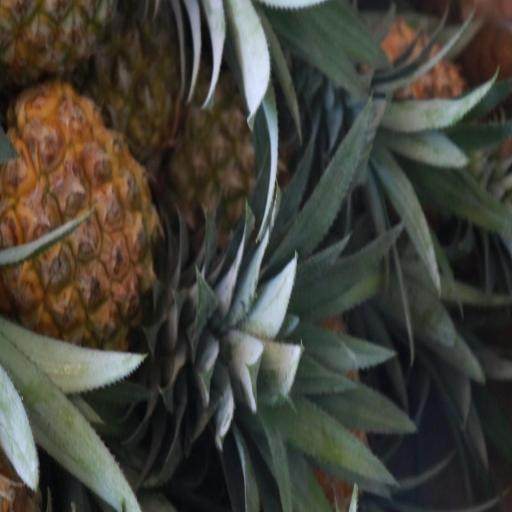Pineapple - v8 v1: (0, 83, 182, 355), (170, 74, 285, 249)
